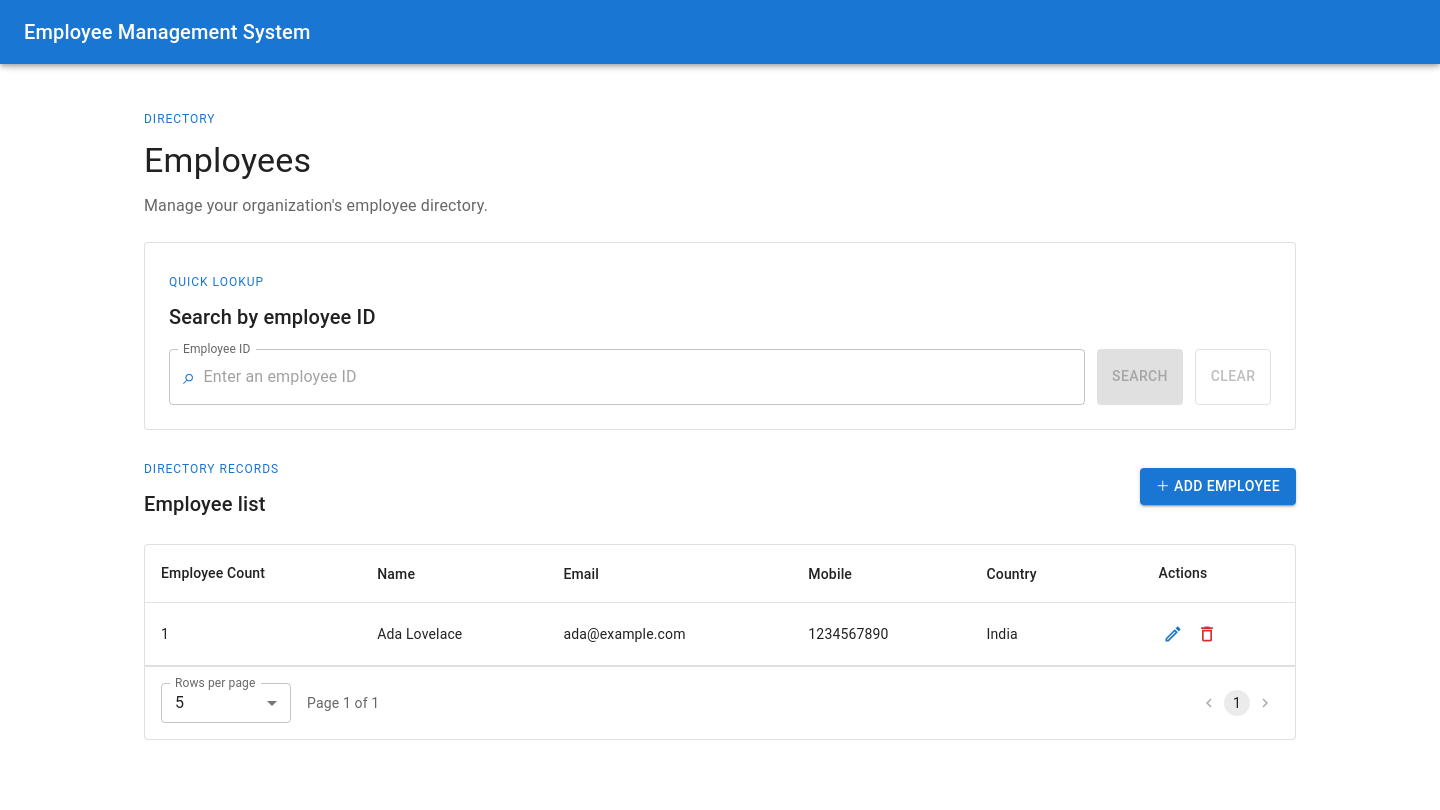
Test case: App CRUD UI flows › prefills Edit Employee and submits the updated values
This screenshot has width=1440, height=810.
Click the button named "Edit Ada Lovelace".
click(1174, 634)  # box [1158, 619, 1188, 649]
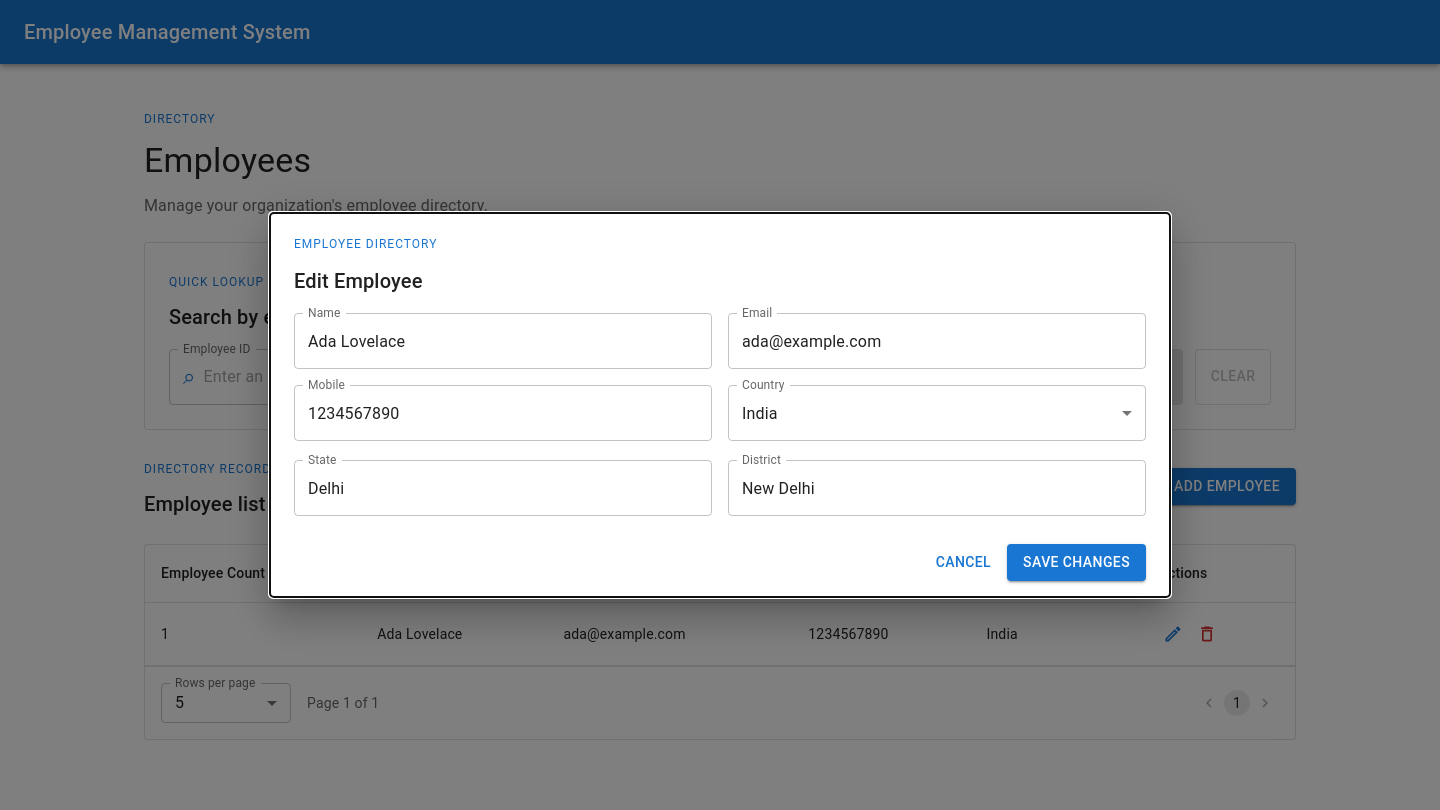
Now the heading "Edit Employee" is shown, box [294, 269, 422, 293]
Now the field labelled "Name" holds "Ada Lovelace"
Now the field labelled "Email" holds "ada@example.com", box [728, 313, 1146, 369]
Clear the field labelled "Name" at x=503, y=341, box [294, 313, 712, 369]
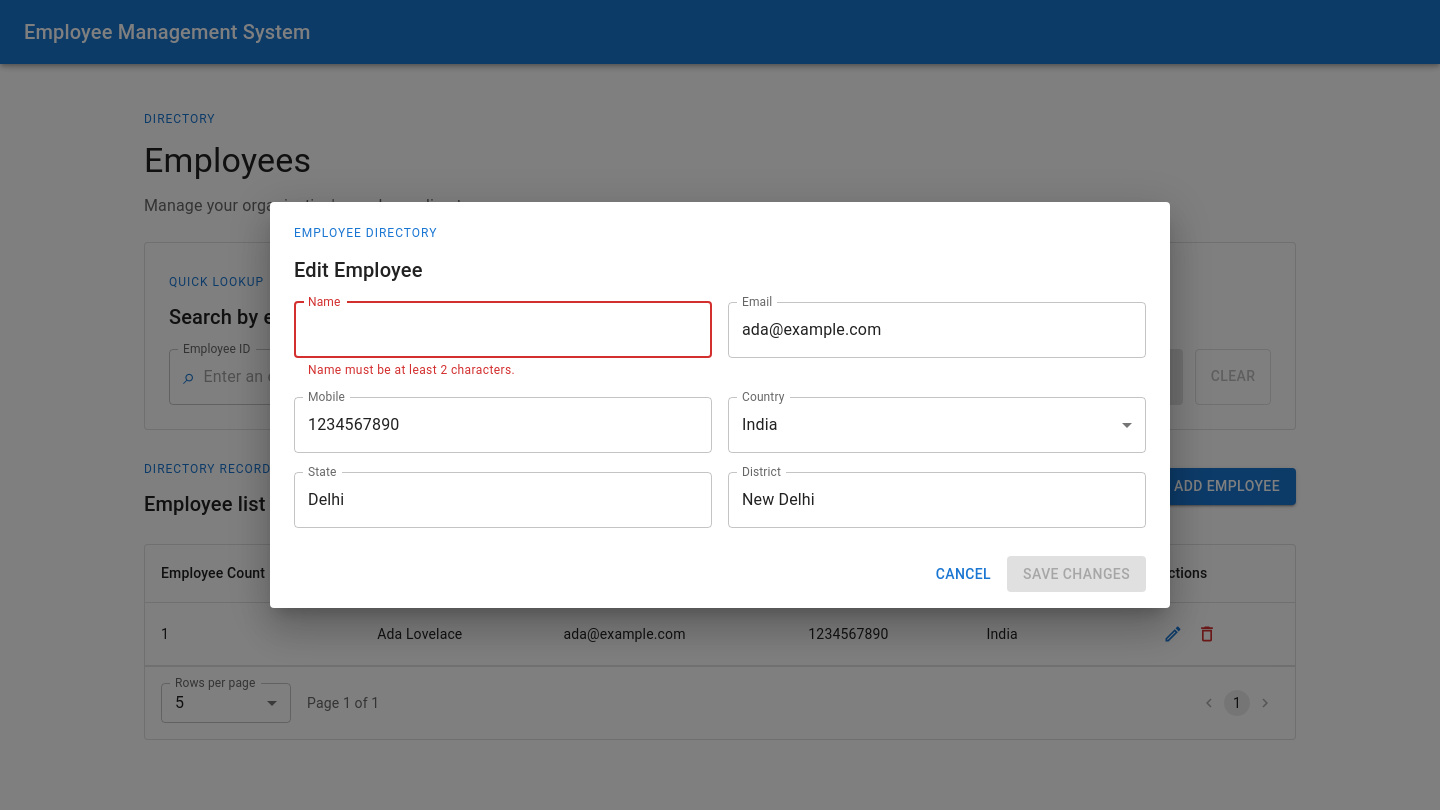
Type "Grace Hopper" into the field labelled "Name".
click(503, 330); type("Grace Hopper")  # box [294, 302, 712, 358]
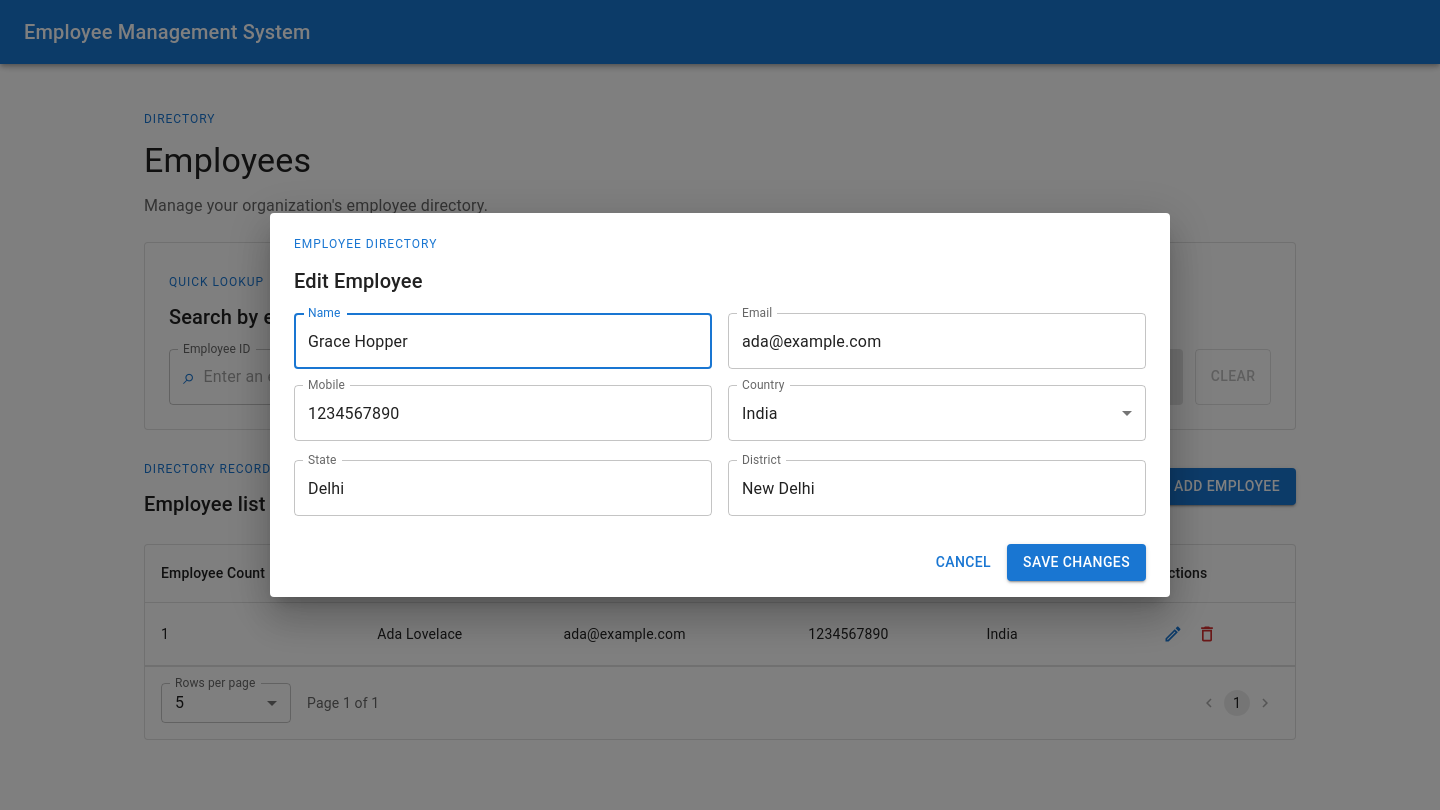
Click the button "Save Changes".
click(1077, 562)  # box [1007, 544, 1146, 581]
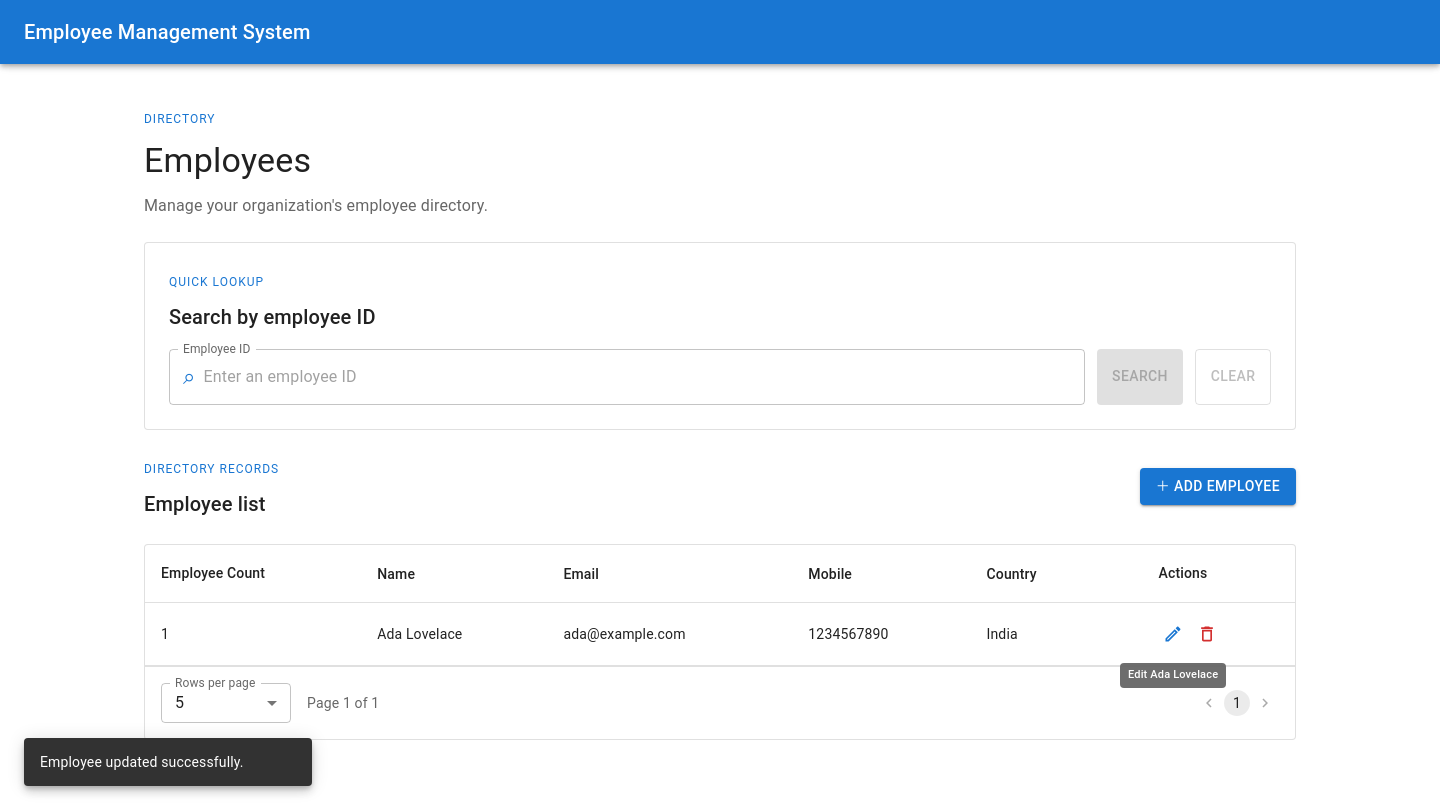
Now the text "Employee updated successfully." is shown, box [40, 754, 244, 770]
